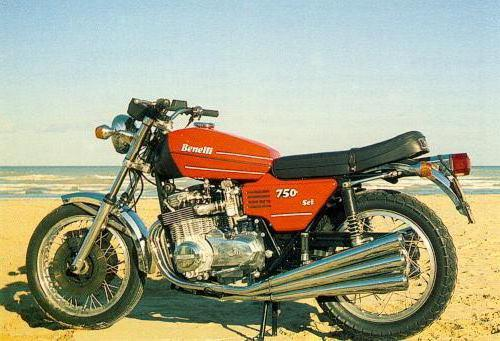motorcycle: (15, 78, 493, 338)
